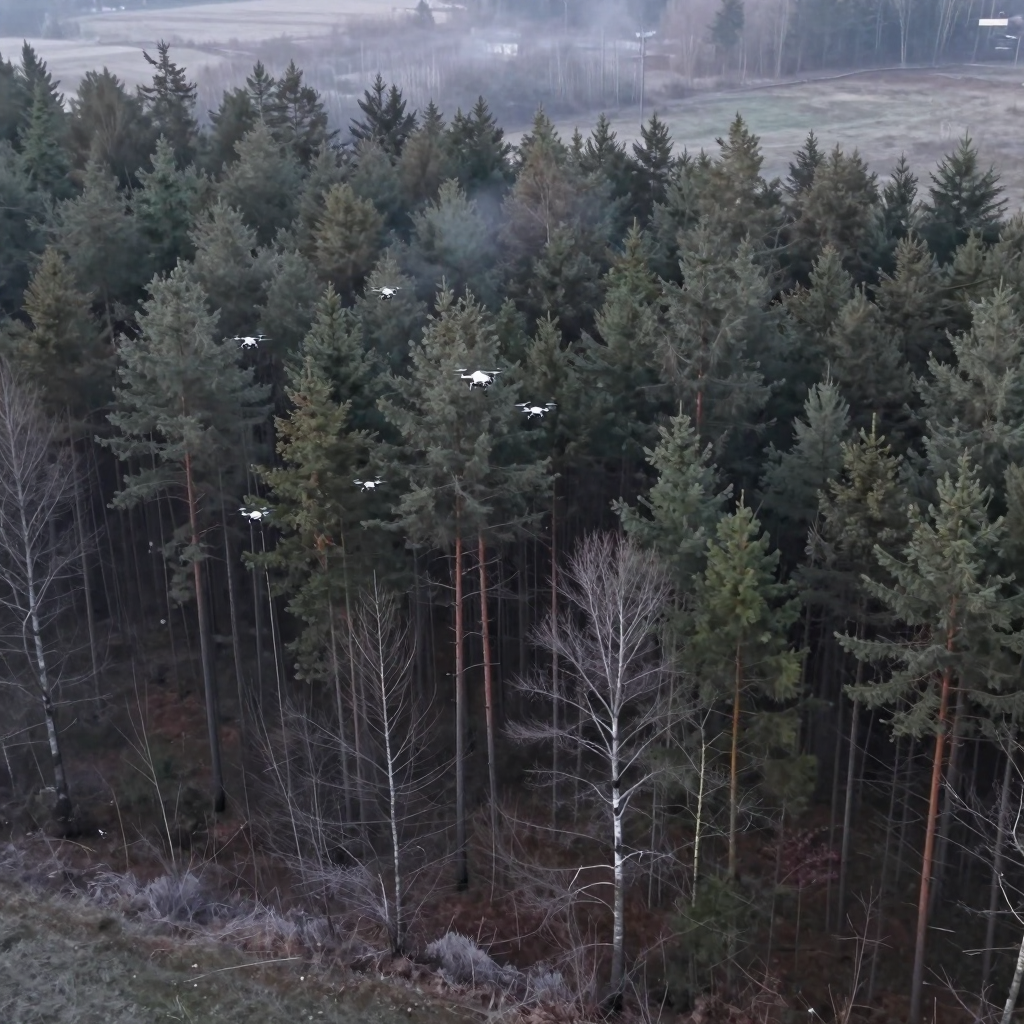drone: (346, 471, 385, 497), (371, 279, 407, 304), (461, 370, 503, 391), (236, 503, 274, 526), (229, 331, 270, 352), (521, 409, 549, 419)
